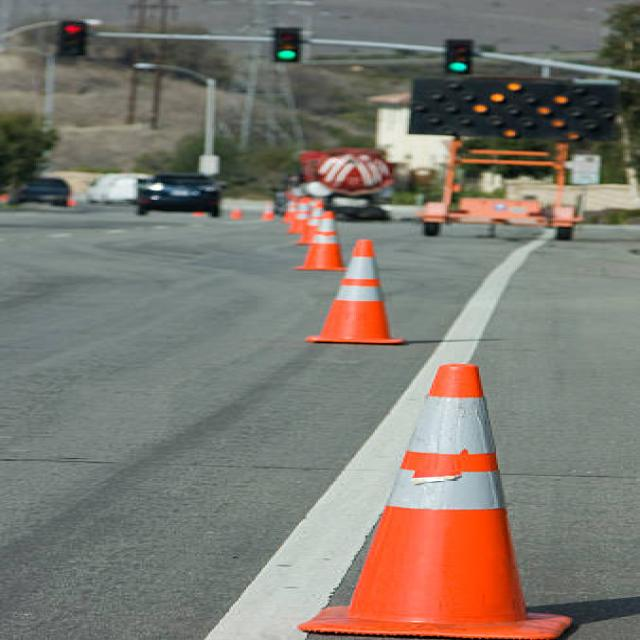Traffic Cone: (255, 345, 602, 640), (306, 232, 417, 355)
